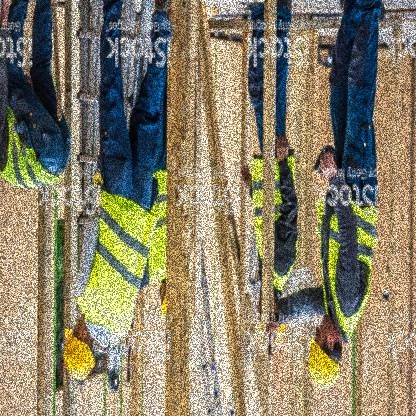vest: (76, 183, 155, 346), (313, 178, 375, 341), (248, 150, 300, 295), (1, 108, 66, 201), (148, 166, 173, 286)
yellow: (300, 329, 344, 396), (58, 316, 95, 387)
